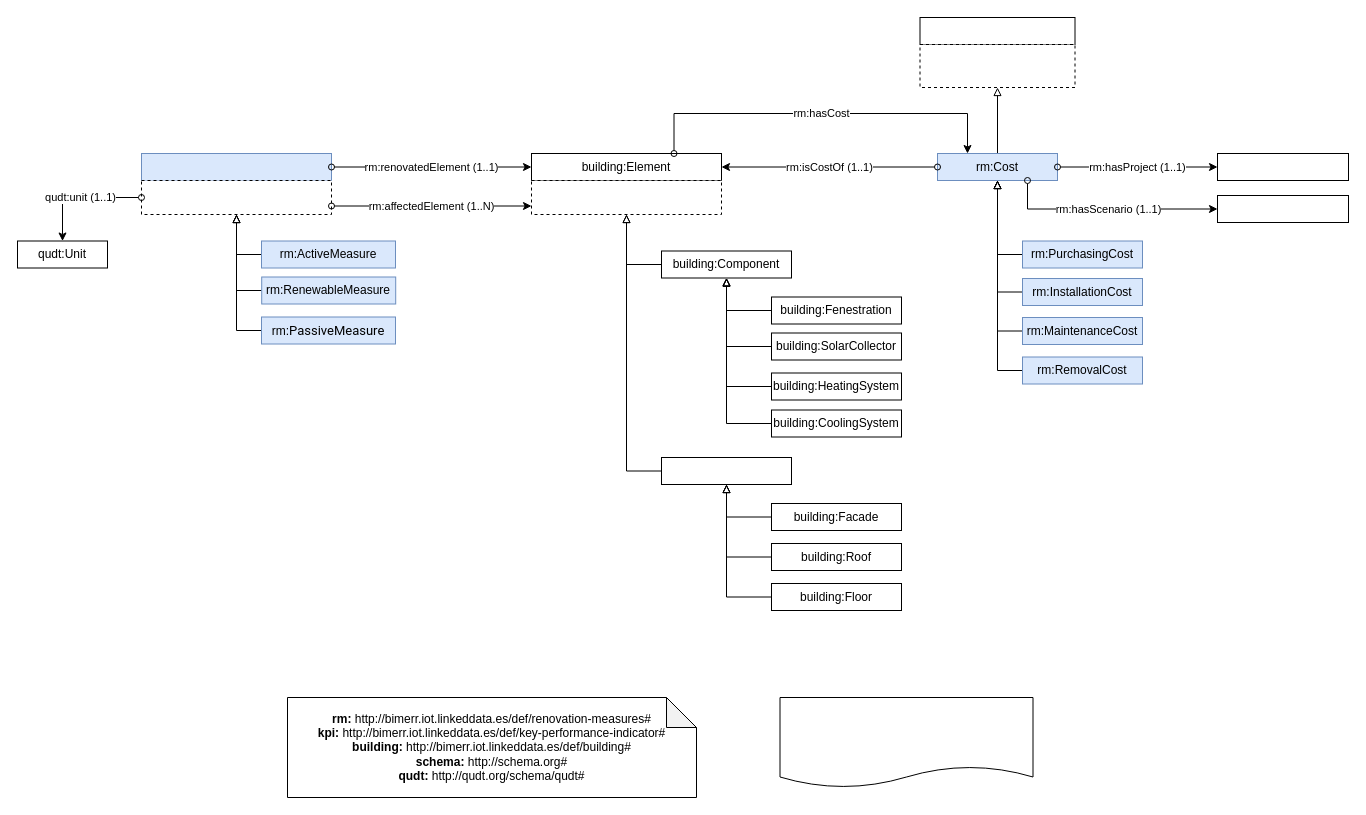
The diagram is 1366 pixels wide and 815 high, and some of its shapes have lost their labels. Each missing label, with the centre of its shape:
"building:Construction" goes at point 726,470.
"building:ifcIdentifier (0..1): String" goes at point 626,197.
"kpi:Project" goes at point 1282,166.
"kpi:Scenario" goes at point 1282,208.
"rm:lifetime (1..1): Integer" goes at point 236,197.
"rm:RenovationMeasure" goes at point 236,166.
"schema:MonetaryAmount" goes at point 997,30.
"schema:value schema:currency" goes at point 997,66.
"Version: 0.0.1 Author: Serge Chávez-Feria" goes at point 906,742.
